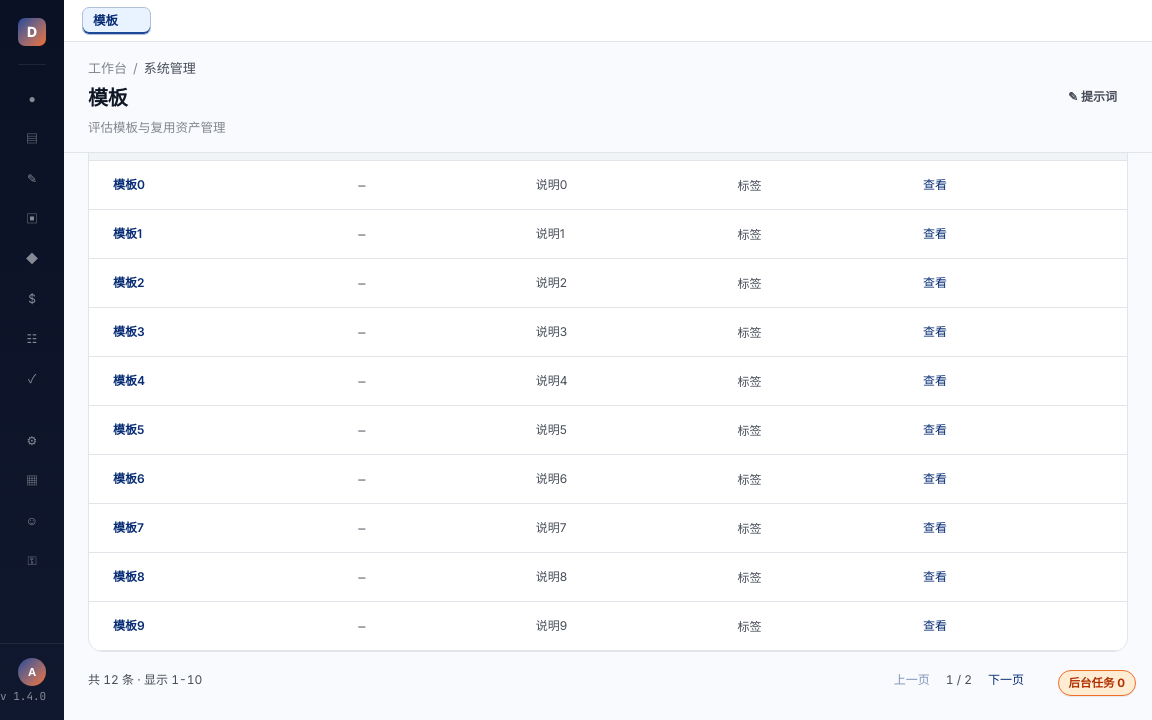
Test case: 系统规则资产目录统一列表 › 模板长说明与标签参与搜索，后续页也可查看完整字段
(page scrolled)
Click the button "下一页" at [1006, 680], box [980,664,1032,696]
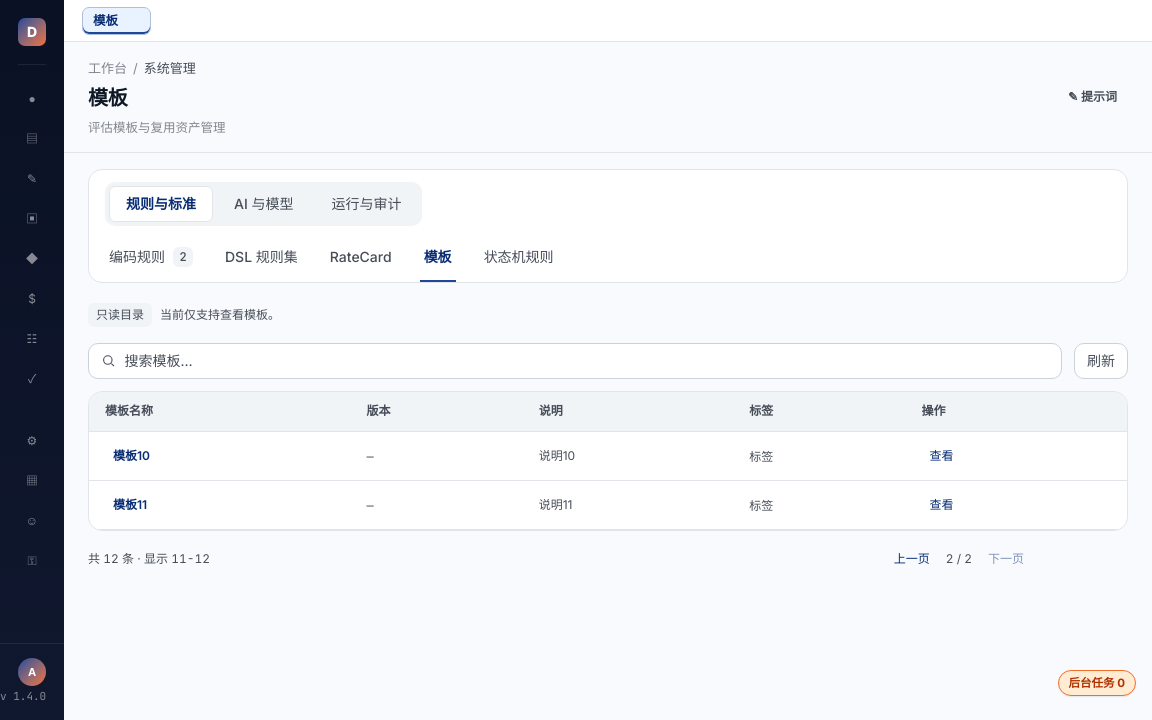
Click the button with aria-label "查看 模板11" at [942, 505], box [922,489,962,521]
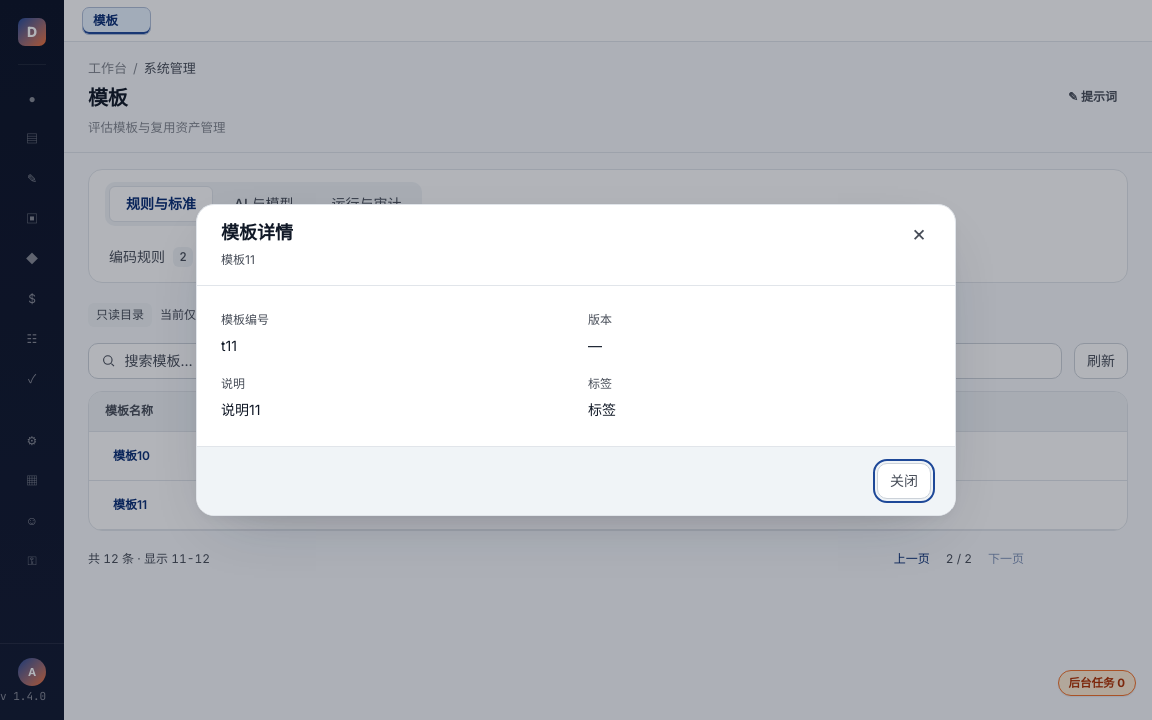
Check: the text "说明11" is shown, box [221,401,260,418]
Click the button "关闭" at [904, 481], box [877,463,931,499]
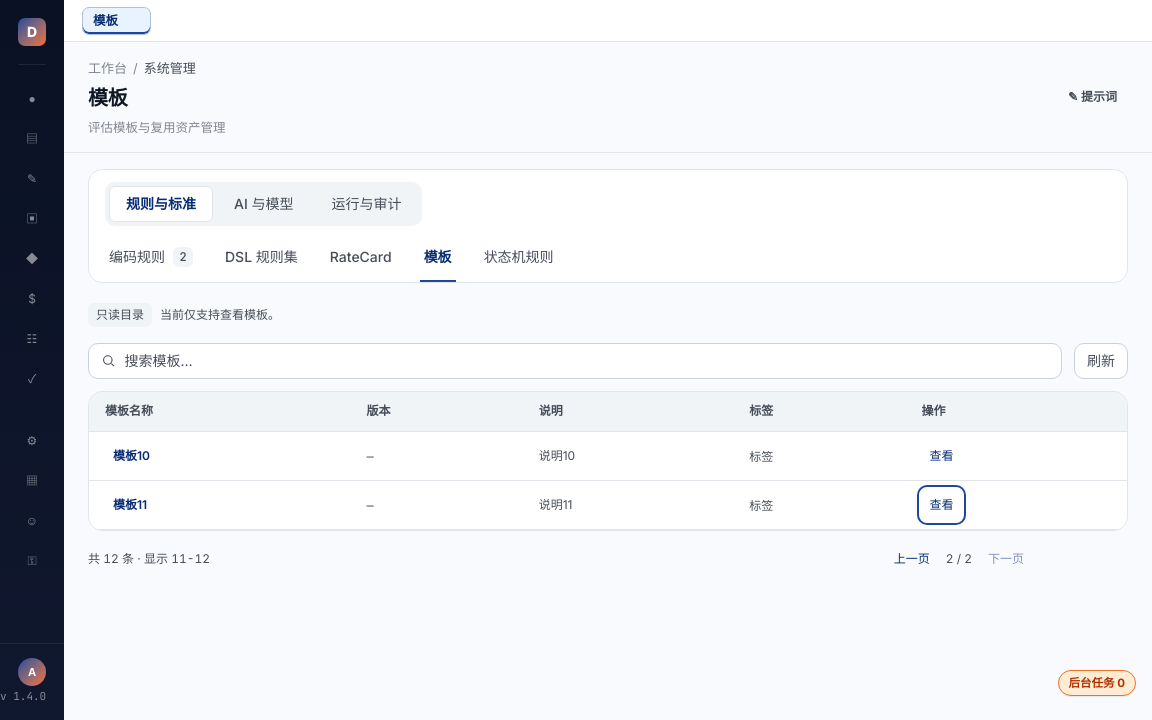
Type "说明0" into the search field labelled "搜索模板" at [587, 360], box [125,344,1049,378]
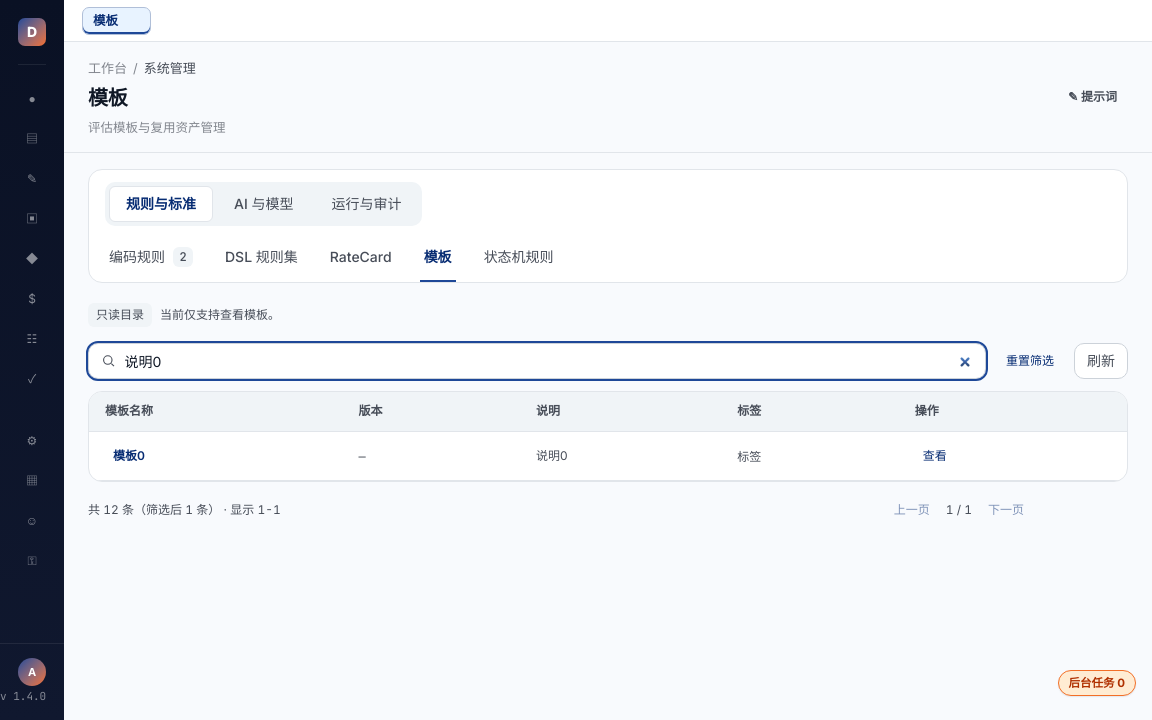
Check: the number of rows is 2, box [89,392,1127,432]; [89,432,1127,480]
Check: the button "模板0" is shown, box [105,440,153,472]
